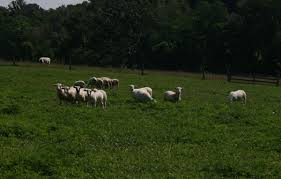sheep: (126, 84, 155, 104), (55, 81, 78, 102), (86, 86, 110, 106), (162, 85, 185, 104), (74, 84, 91, 106), (227, 88, 250, 103), (107, 75, 120, 89), (98, 75, 112, 88), (38, 55, 53, 67), (88, 76, 101, 86)
